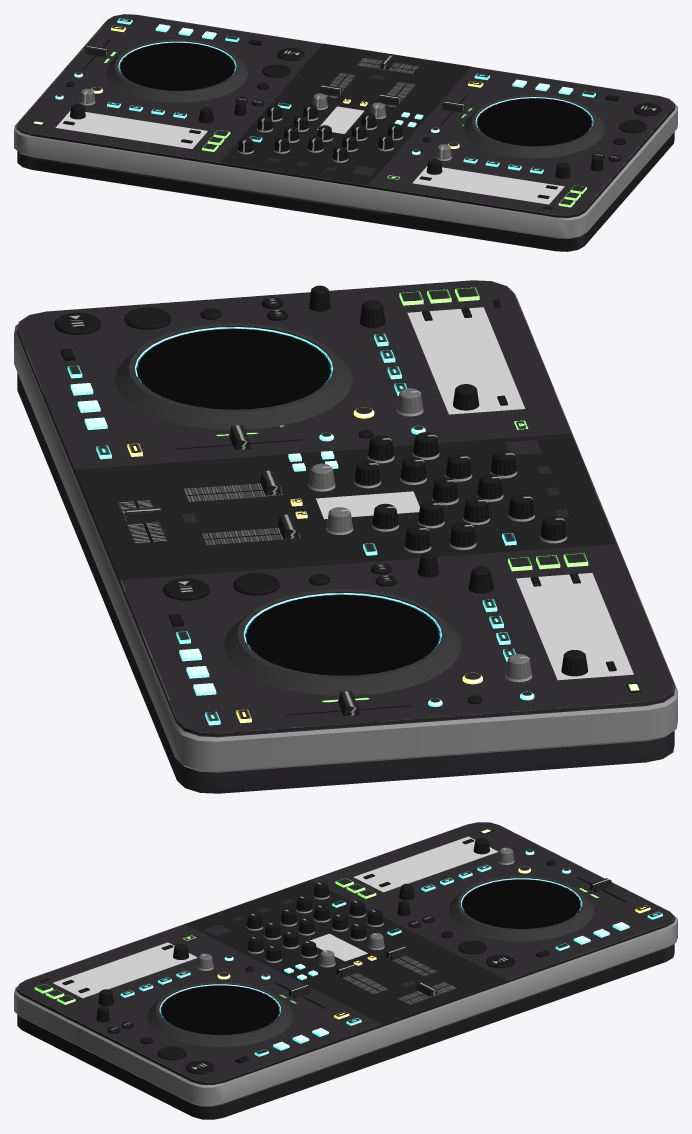
3 views of the same model, one above another, from view 1: azimuth 30°, elevation 25°; view 2: azimuth 150°, elevation 25°; view 3: azimuth 270°, elevation 25° (orthographic). The views are drawn at different scales.
Visible parts, largest first — view 1: Mixer; view 2: Mixer; view 3: Mixer.
Boxes of the visible parts, <box> form: Mixer: <box>14,14,677,251</box>; Mixer: <box>14,280,677,793</box>; Mixer: <box>14,822,677,1119</box>.
Size of the model in its own units: 249 by 22.26 by 266.
Materials: 2 (1 with a texture image).
